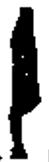Reed: (4, 5, 44, 162)
